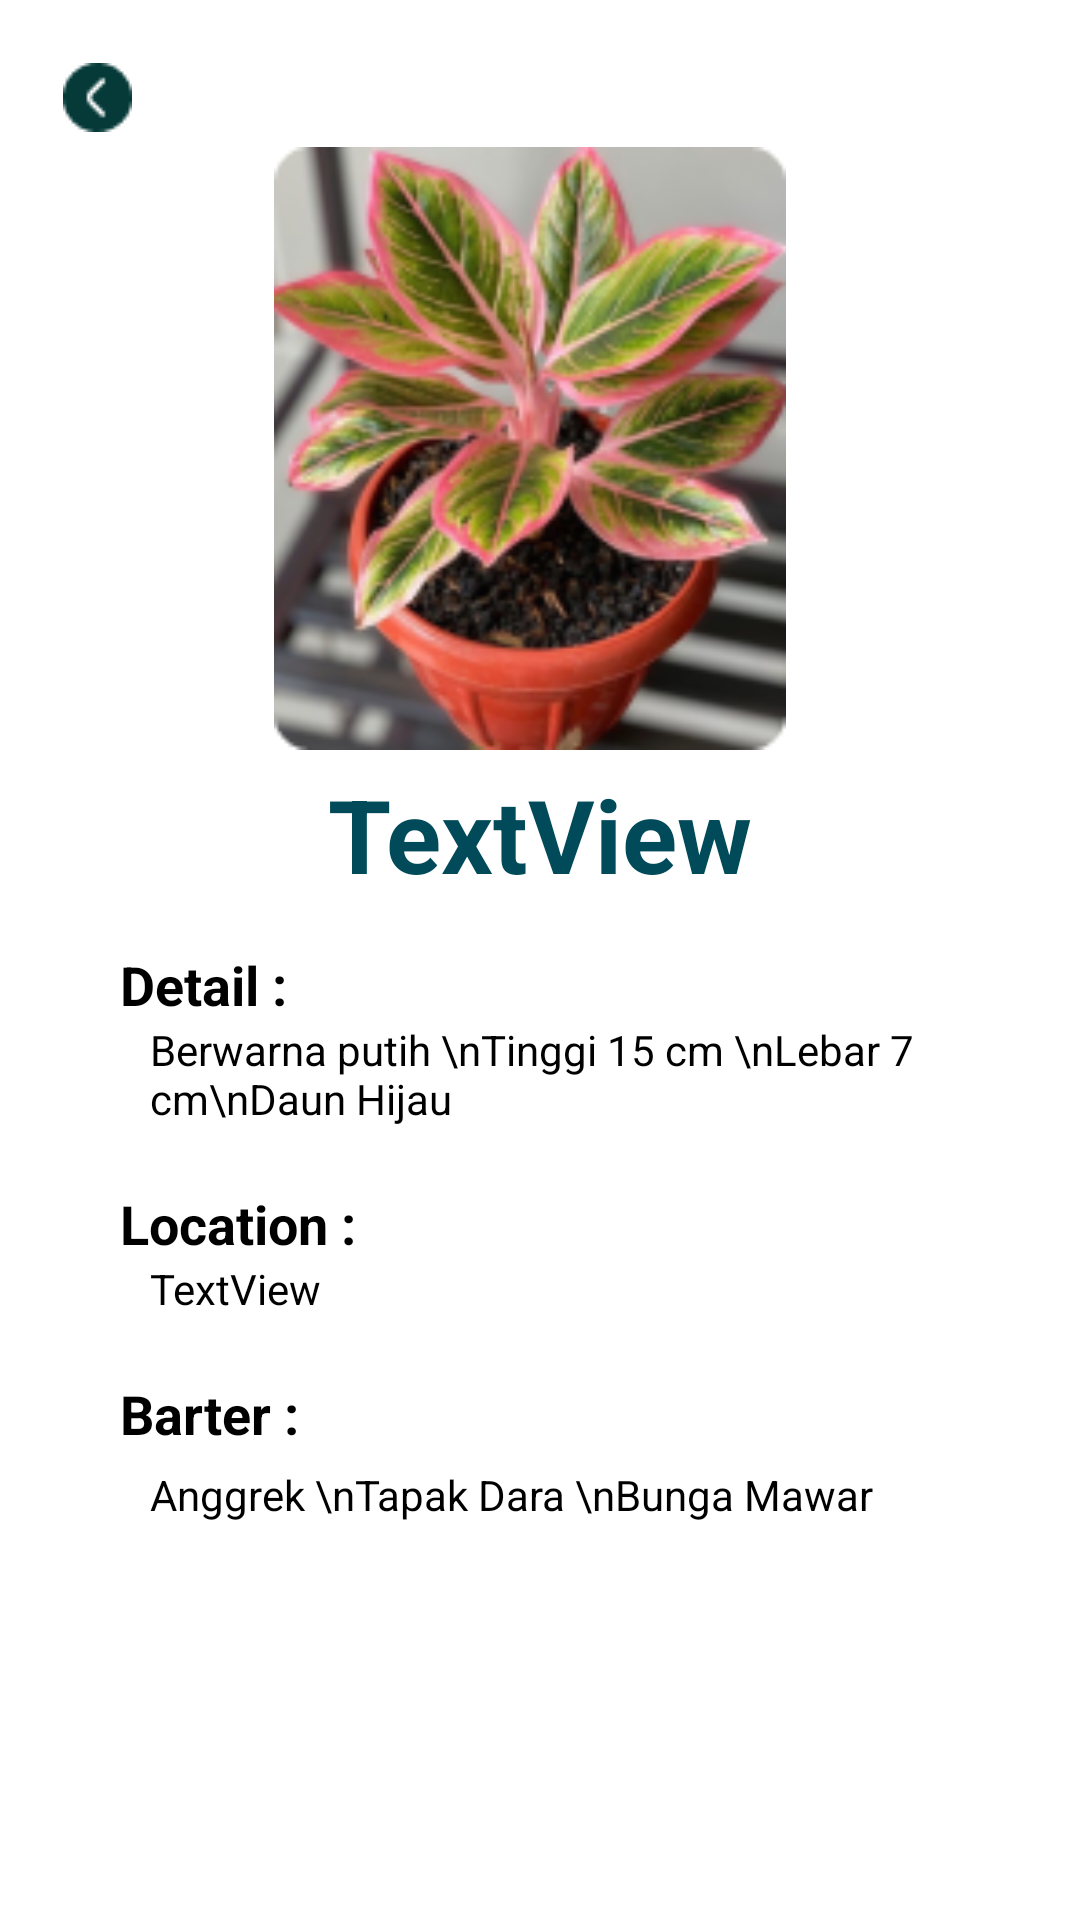

Where icons sit on this 1080x1920 app screen, as region(x1, y1, x2, y2):
back: region(63, 63, 132, 132)
